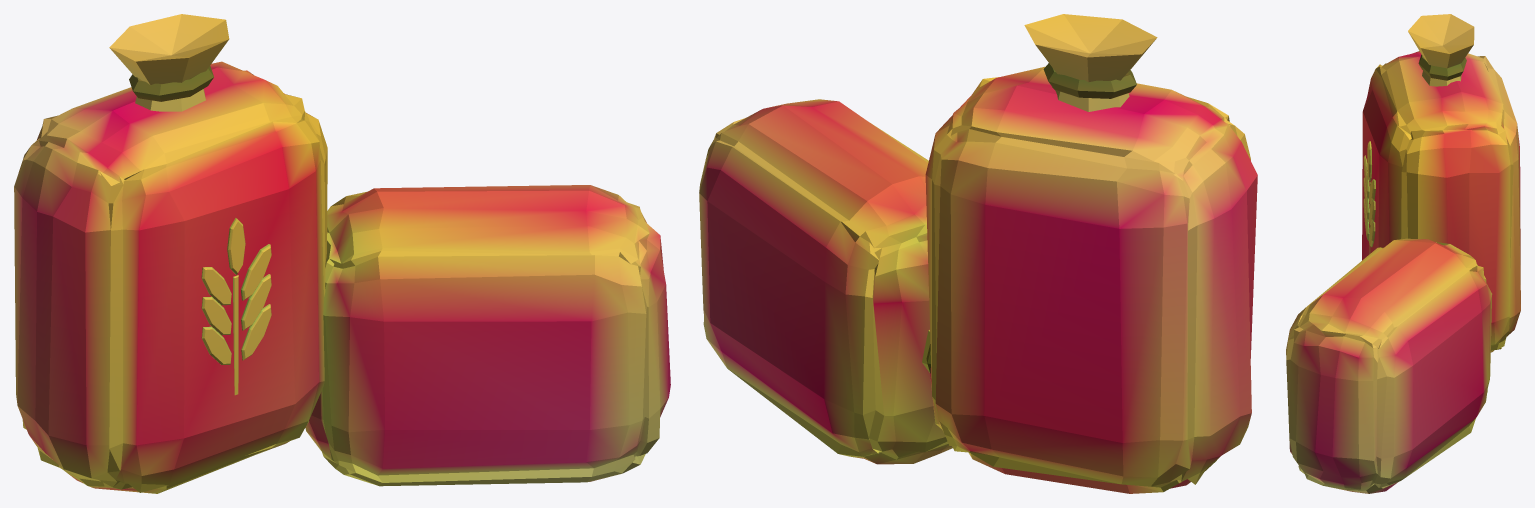
File: Farm_GrainSacks.fbx
3 views of the same model, side by side, from view 1: azimuth 30°, elevation 25°; view 2: azimuth 150°, elevation 25°; view 3: azimuth 270°, elevation 25° (orthographic). The views are drawn at different scales.
Visible parts, largest first — view 1: Farm_GrainSacks; view 2: Farm_GrainSacks; view 3: Farm_GrainSacks.
Part boxes in pixels (bbox=[...]): Farm_GrainSacks: bbox=[14, 14, 670, 493]; Farm_GrainSacks: bbox=[699, 14, 1257, 493]; Farm_GrainSacks: bbox=[1286, 14, 1520, 493].
Bounding box in the file's own units: 1.04 × 0.8214 × 0.5232.
